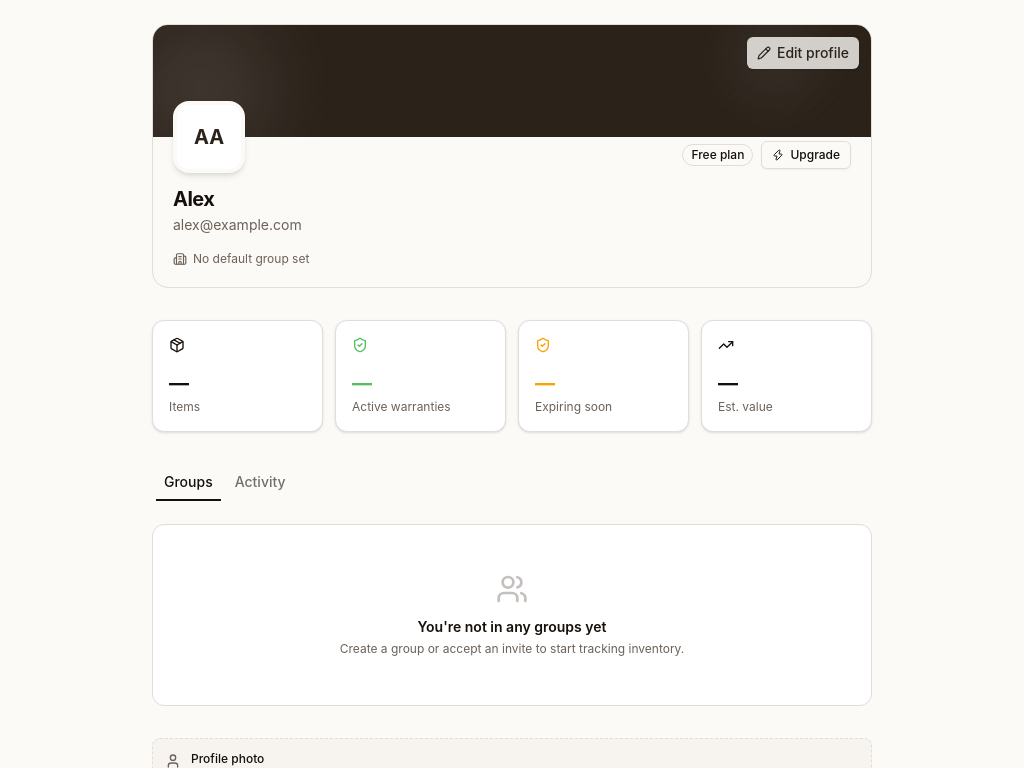
<ProfilePage /> › Activity tab › renders the empty state and switches in via the tab control
This screenshot has width=1024, height=768.
Click the tab with test id "profile-tab-activity" at (260,482), box [226,468,295,496]
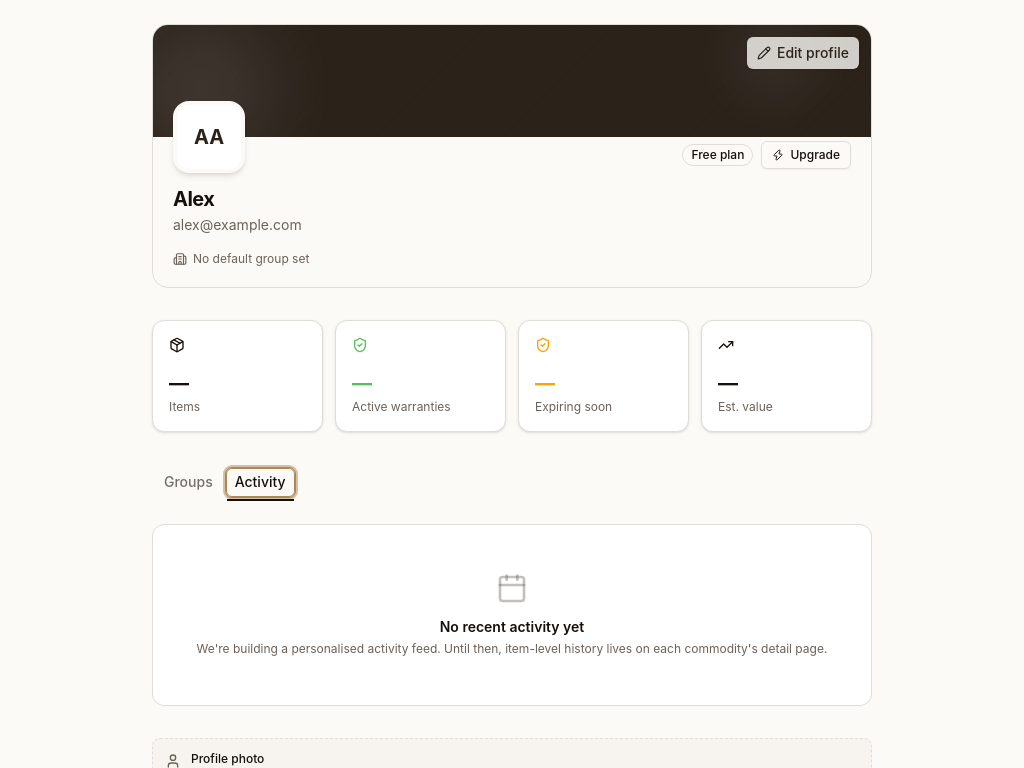
Now the element with test id "profile-activity-empty" is shown, box [152,524,872,706]
